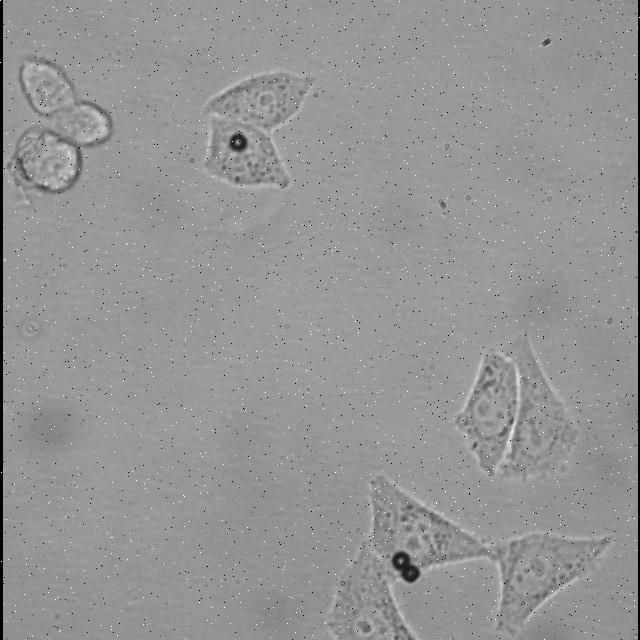microbeads: (225, 128, 251, 152), (398, 562, 419, 584), (390, 550, 410, 572)
